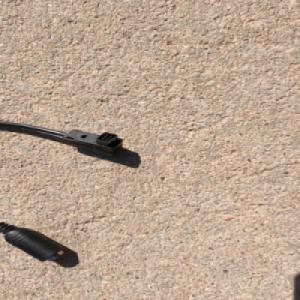Wire: (0, 117, 127, 262)
